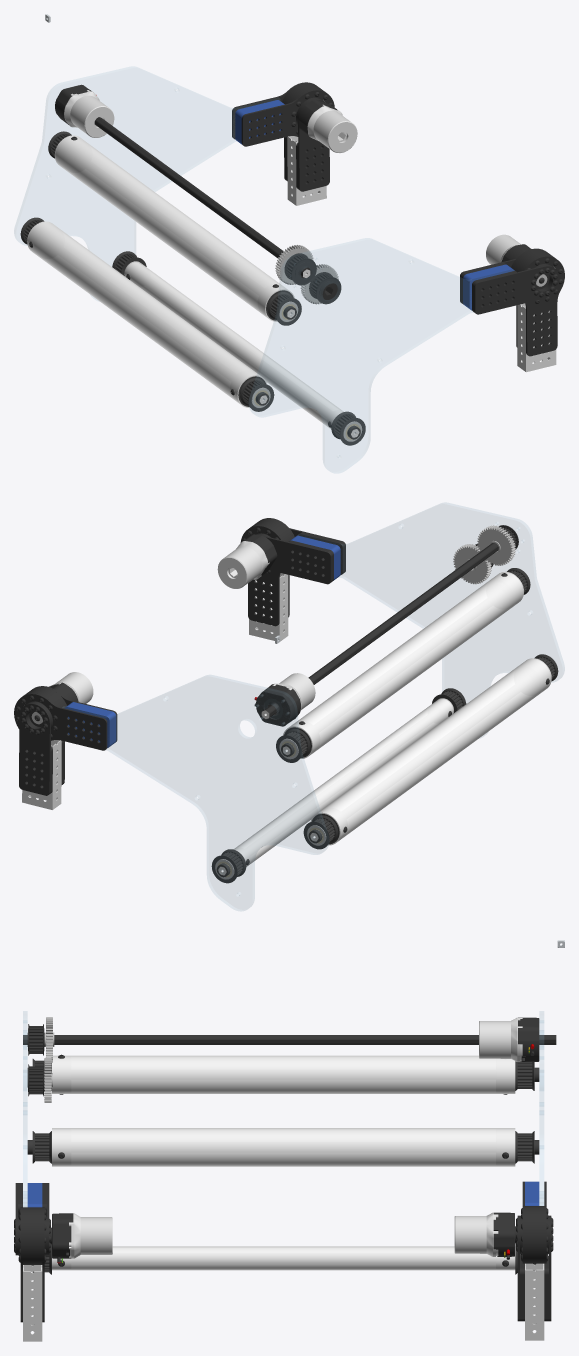
3 views of the same model, one above another, from view 1: azimuth 30°, elevation 25°; view 2: azimuth 150°, elevation 25°; view 3: azimuth 270°, elevation 25° (orthographic). The views are drawn at different scales.
Visible parts, largest first — view 1: Part 1 (×4), Deadaxle Tube_24_in (×3), Inner Gusset Cycloidal Joint (×2), Outside Gusset Cycloidal Joint (×2), id50 (×3), 1/2" Rounded Hex (27.625" L, 13.75mm OD), 2" x 1" x 0.0625" Aluminum Box Tube (4" L, Full Pattern, 0.5 (×2), Roller Endcap_Double HTD_24_Tooth_Square Nut (×3), 24t Aluminum Pulley (HTD 5mm, 15mm Wide, 1/2" Hex Bore) (×2), 45t Steel Spur Gear (20 DP, 1/2" Hex Bore); view 2: Part 1 (×4), Deadaxle Tube_24_in (×3), Outside Gusset Cycloidal Joint (×2), Inner Gusset Cycloidal Joint (×2), id50 (×3), 1/2" Rounded Hex (27.625" L, 13.75mm OD), 2" x 1" x 0.0625" Aluminum Box Tube (4" L, Full Pattern, 0.5 (×2), Roller Endcap_Double HTD_24_Tooth_Square Nut (×3), 45t Steel Spur Gear (20 DP, 1/2" Hex Bore) (×2), SPARK Flex Brushless Motor Controller; view 3: Deadaxle Tube_24_in (×3), id50 (×3), 1/2" Rounded Hex (27.625" L, 13.75mm OD), 2" x 1" x 0.0625" Aluminum Box Tube (4" L, Full Pattern, 0.5 (×2), SPARK Flex Brushless Motor Controller (×3), Thrifty Cycloidal Housing (×2), Roller Endcap_Double HTD_24_Tooth_Square Nut (×3), Part 1 (×2), 24t Aluminum Pulley (HTD 5mm, 15mm Wide, 1/2" Hex Bore).
Boxes of the visible parts, <box> form: Part 1 (×4): <box>14,67,514,472</box>; Deadaxle Tube_24_in (×3): <box>27,135,343,428</box>; Inner Gusset Cycloidal Joint (×2): <box>241,89,564,356</box>; Outside Gusset Cycloidal Joint (×2): <box>298,99,559,314</box>; id50 (×3): <box>64,90,523,264</box>; 1/2" Rounded Hex (27.625" L, 13.75mm OD): <box>94,117,310,277</box>; 2" x 1" x 0.0625" Aluminum Box Tube (4" L, Full Pattern, 0.5 (×2): <box>287,136,556,372</box>; Roller Endcap_Double HTD_24_Tooth_Square Nut (×3): <box>238,290,365,445</box>; 24t Aluminum Pulley (HTD 5mm, 15mm Wide, 1/2" Hex Bore) (×2): <box>284,253,341,304</box>; 45t Steel Spur Gear (20 DP, 1/2" Hex Bore): <box>275,244,313,284</box>; Part 1 (×4): <box>63,503,564,910</box>; Deadaxle Tube_24_in (×3): <box>233,571,551,866</box>; Outside Gusset Cycloidal Joint (×2): <box>19,535,331,795</box>; Inner Gusset Cycloidal Joint (×2): <box>14,525,282,750</box>; id50 (×3): <box>48,541,315,714</box>; 1/2" Rounded Hex (27.625" L, 13.75mm OD): <box>261,542,498,718</box>; 2" x 1" x 0.0625" Aluminum Box Tube (4" L, Full Pattern, 0.5 (×2): <box>22,573,288,809</box>; Roller Endcap_Double HTD_24_Tooth_Square Nut (×3): <box>211,727,339,883</box>; 45t Steel Spur Gear (20 DP, 1/2" Hex Bore) (×2): <box>453,525,515,584</box>; SPARK Flex Brushless Motor Controller: <box>254,684,300,726</box>; Deadaxle Tube_24_in (×3): <box>52,1055,515,1270</box>; id50 (×3): <box>69,1017,522,1258</box>; 1/2" Rounded Hex (27.625" L, 13.75mm OD): <box>23,1035,556,1044</box>; 2" x 1" x 0.0625" Aluminum Box Tube (4" L, Full Pattern, 0.5 (×2): <box>23,1263,544,1341</box>; SPARK Flex Brushless Motor Controller (×3): <box>52,1017,539,1263</box>; Thrifty Cycloidal Housing (×2): <box>23,1206,544,1264</box>; Roller Endcap_Double HTD_24_Tooth_Square Nut (×3): <box>32,1061,534,1163</box>; Part 1 (×2): <box>23,1011,543,1206</box>; 24t Aluminum Pulley (HTD 5mm, 15mm Wide, 1/2" Hex Bore): <box>27,1064,44,1096</box>.
Bounding box in the file's own units: 0.5268 × 0.4646 × 0.7248.
